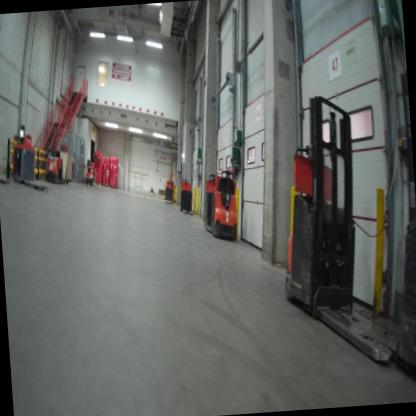pallet_truck: (266, 82, 416, 376), (8, 121, 52, 196), (200, 166, 242, 242), (42, 143, 77, 188), (176, 173, 196, 222), (160, 175, 178, 209)
